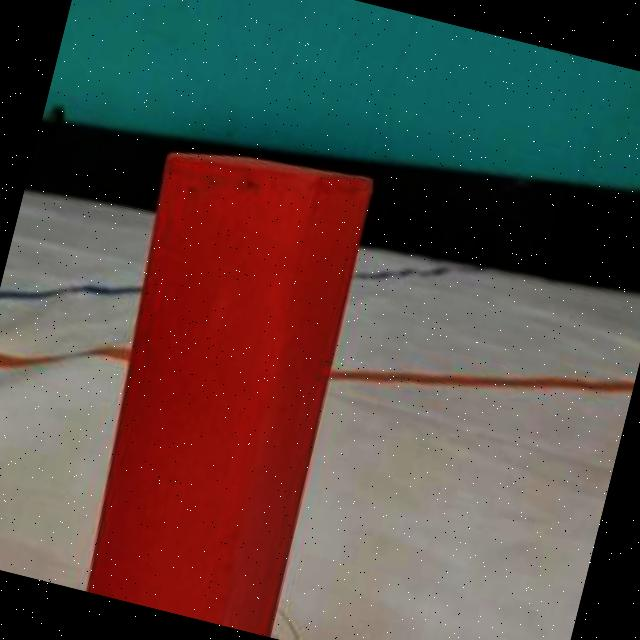redbox: (56, 126, 389, 638)
